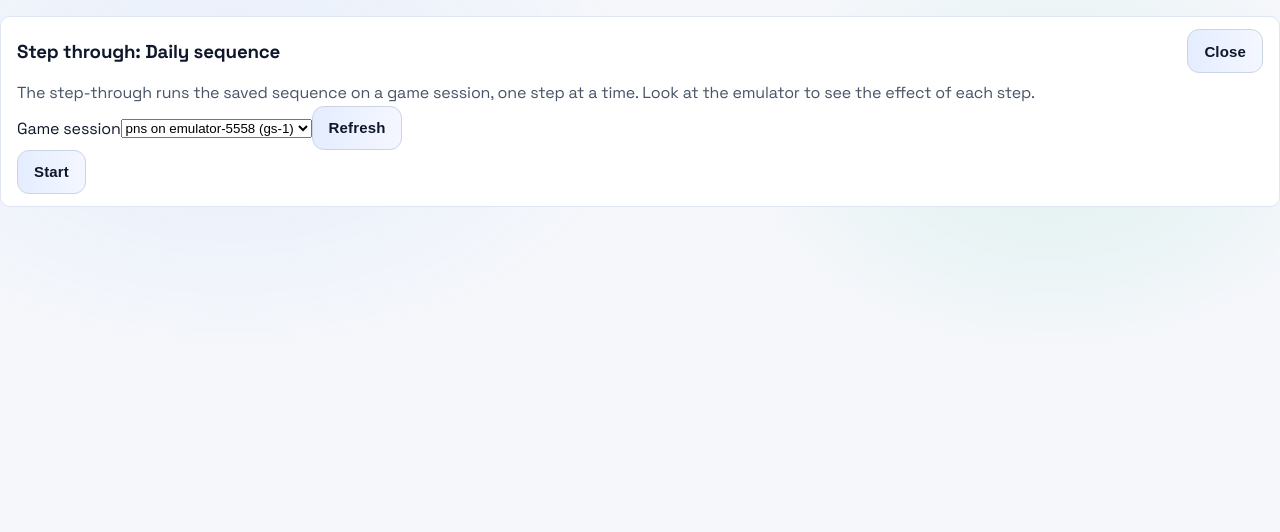
Test: StepThroughPanel history, restart, values, and queue › shows a queue banner with Pause queue and pauses the queue
Click the button "Start": (51,172) [17,150,86,194]
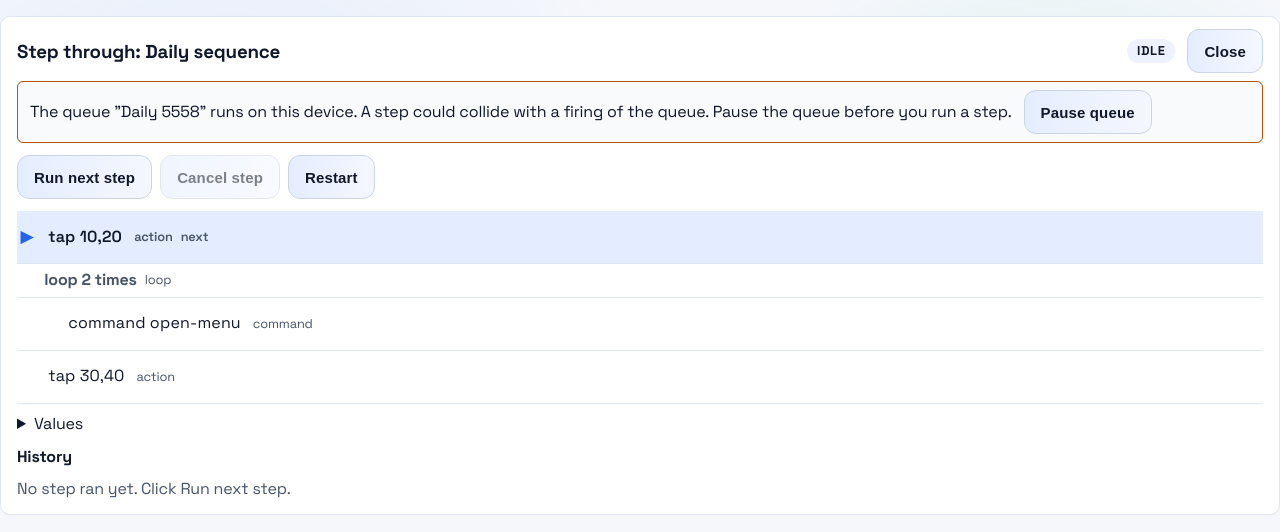
Check: the list named "Steps" is shown, box [17,211,1263,404]
Check: the text "The queue \"Daily 5558\" runs on this device" is shown, box [30,100,1012,124]
Click the button "Pause queue": (1088,112) [1024,90,1152,134]
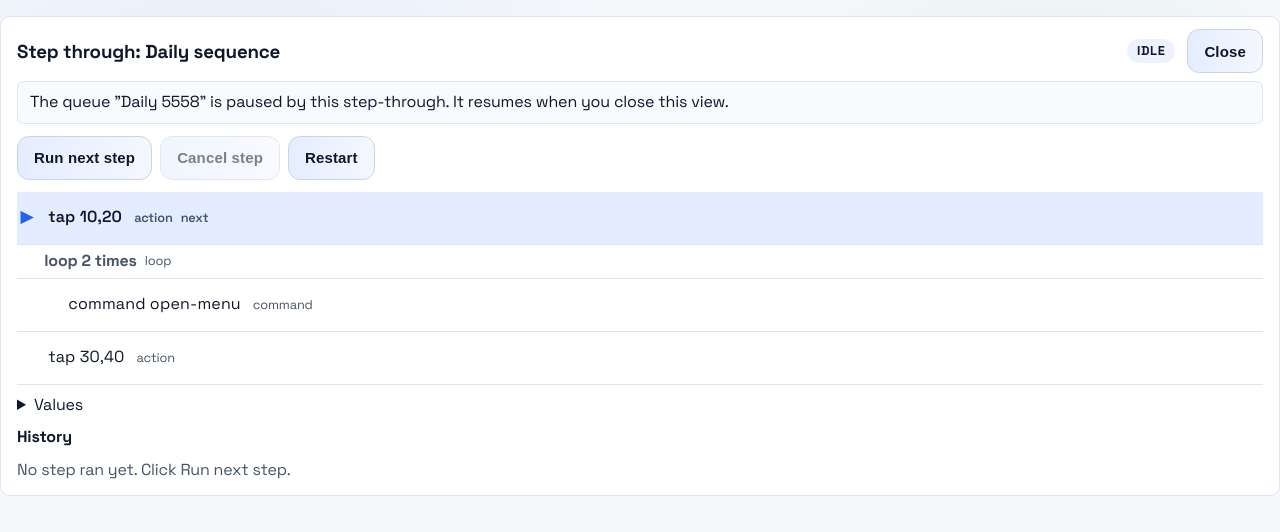
Check: the text "paused by this step-through" is shown, box [200,91,729,112]
Check: the button "Pause queue" is gone
